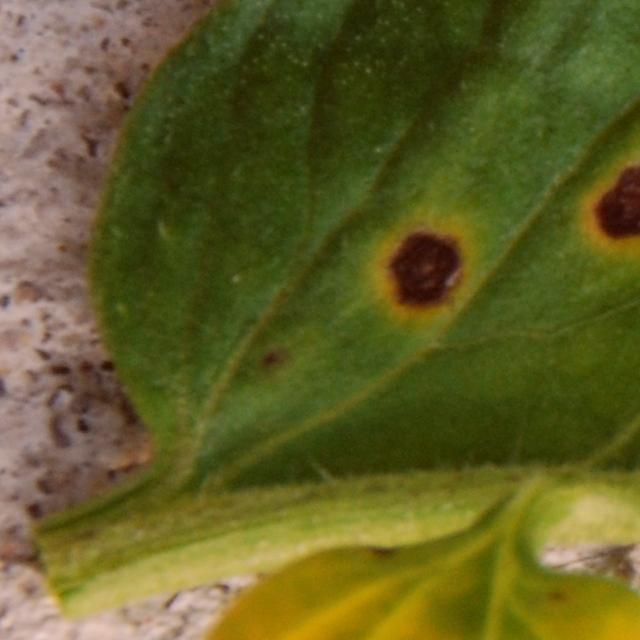Tomato Early blight leaf: (75, 0, 640, 640)
